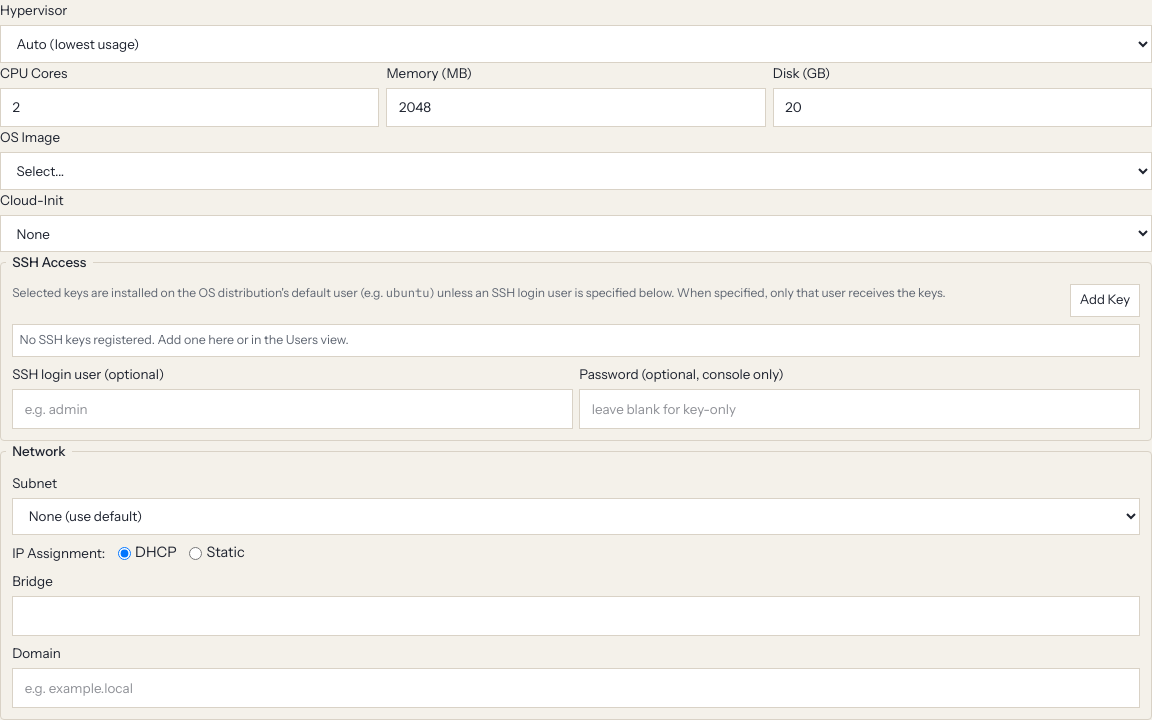
Test: Windows VM configuration › shows the shared activation flow and disables static networking
Select "windows (windows 11)" in the dropdown labelled "OS Image". click: (576, 171)
box: [0,152,1151,190]
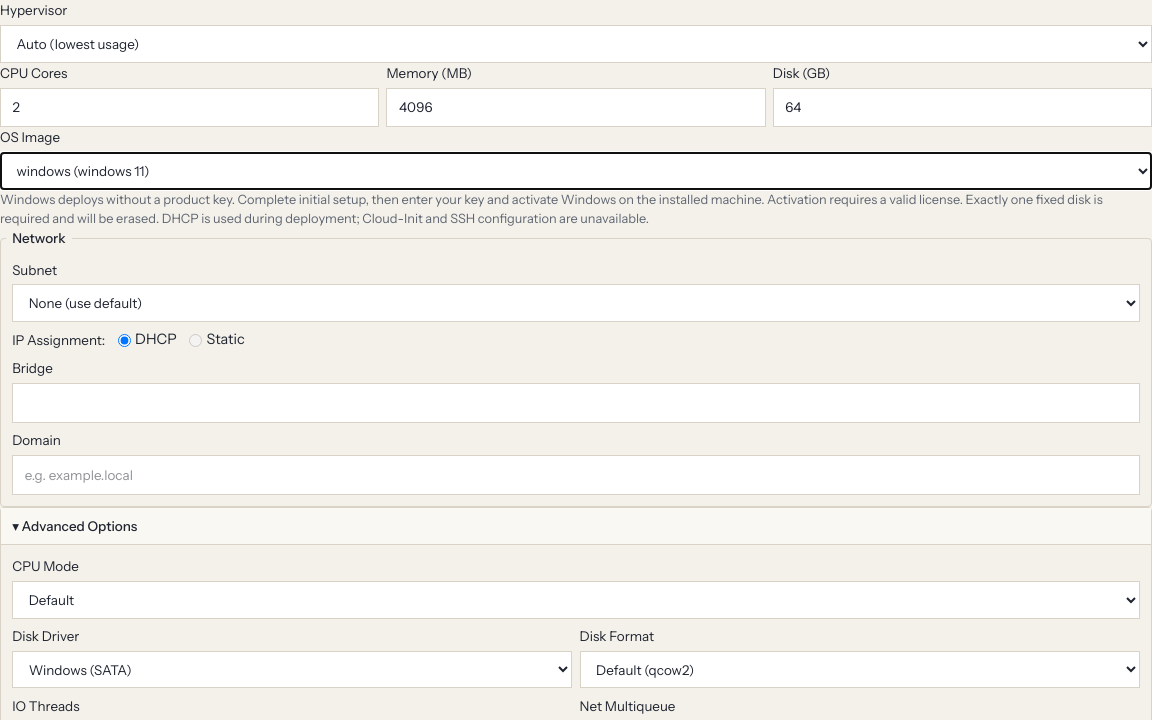
Expected: the text "Cloud-Init" is not shown
Expected: the text "Windows deploys without a product key" is shown, [0,192,1103,226]
Expected: the radio button labelled "Static" is disabled, [189,334,202,346]
Select "linux (debian 13 baremetal)" in the dropdown labelled "OS Image". click: (576, 171)
box: [0,152,1151,190]
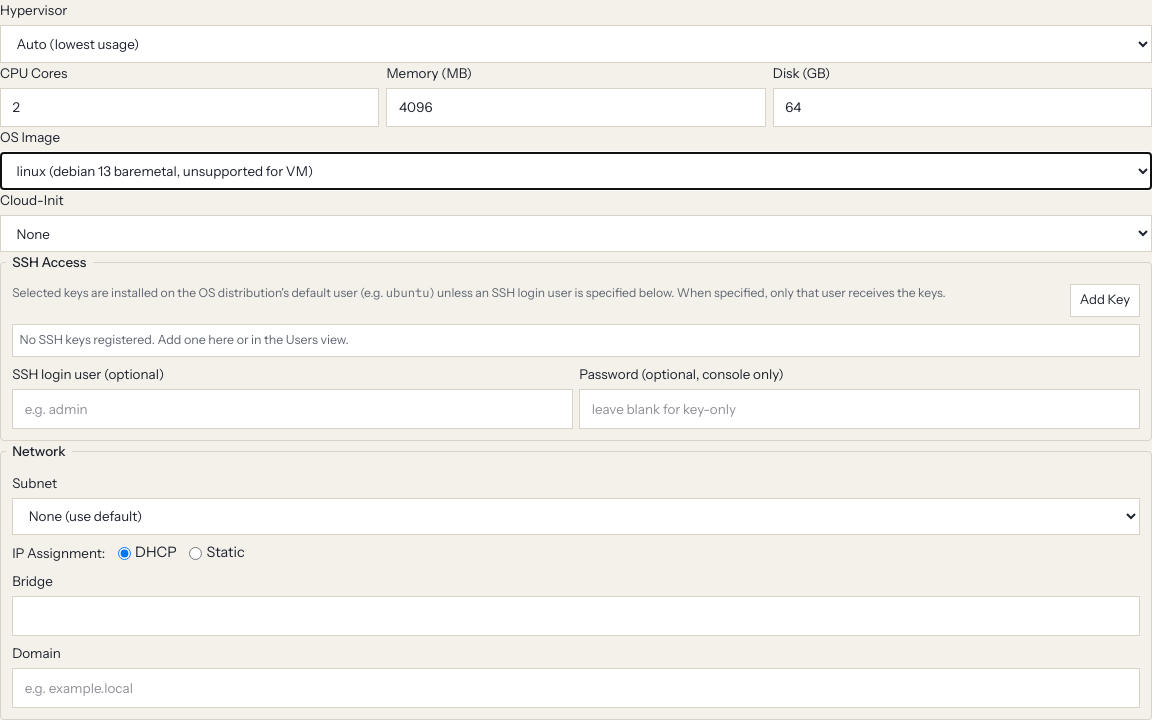
Expected: the text "Cloud-Init" is shown, [0,190,1151,252]
Expected: the radio button labelled "Static" is enabled, [189,547,202,560]
